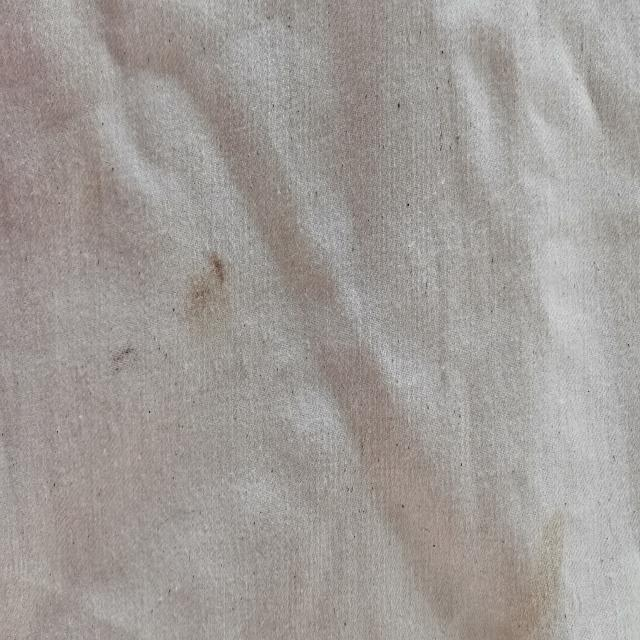taaaches: (178, 236, 234, 354), (99, 318, 143, 393)
